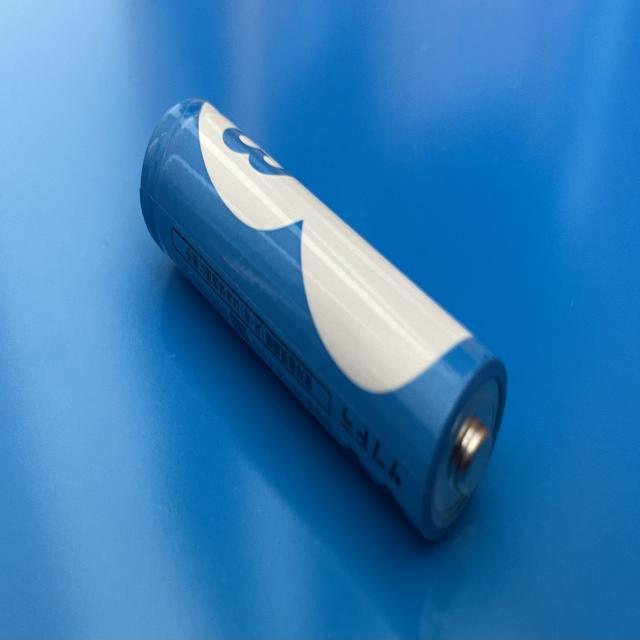AA: (140, 96, 510, 550)
